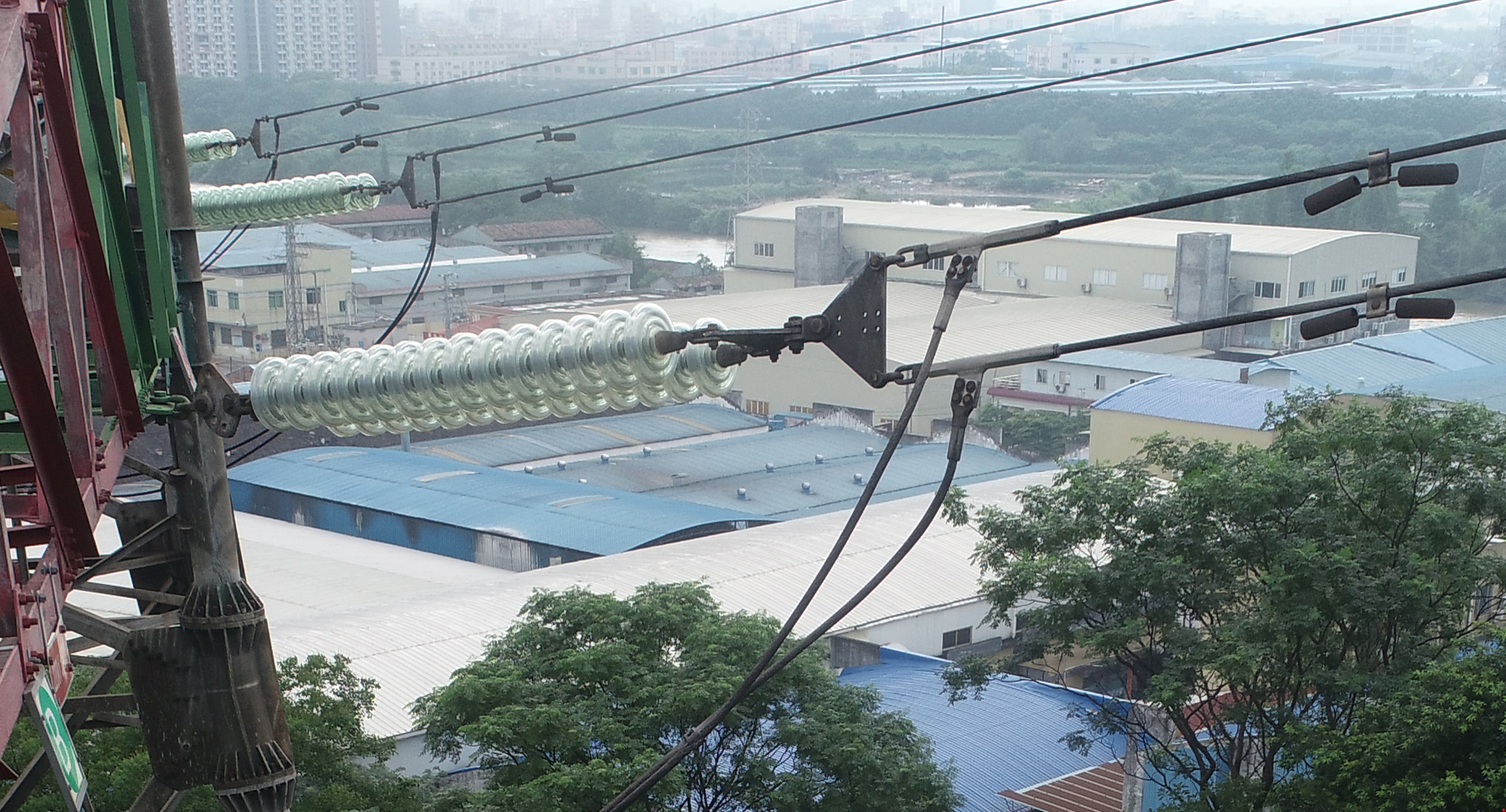damper: (1298, 143, 1463, 219), (1294, 278, 1458, 344), (516, 175, 579, 205), (335, 131, 381, 156), (335, 95, 381, 117)
damper_defect: (533, 121, 577, 144)
